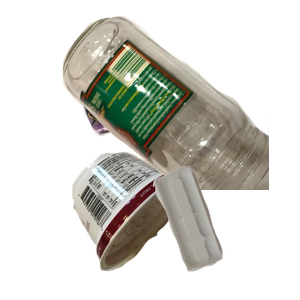glass: (60, 14, 300, 194)
metal: (75, 56, 198, 185)
plastic: (150, 163, 300, 300)
trash: (70, 149, 254, 300)
